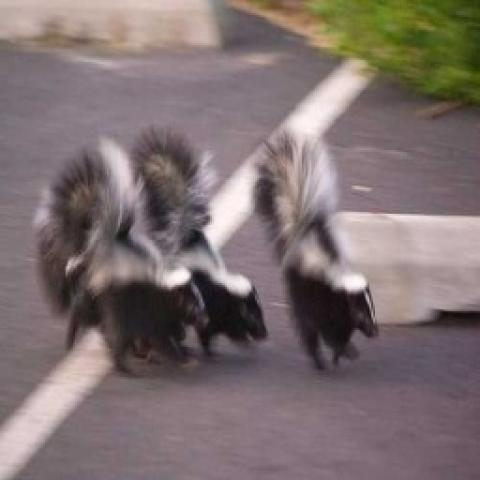small_animal: (43, 158, 214, 387), (134, 134, 274, 370), (248, 133, 380, 372)
